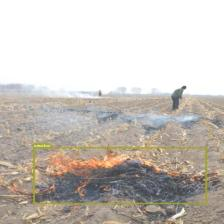smoke: (33, 147, 206, 204)
